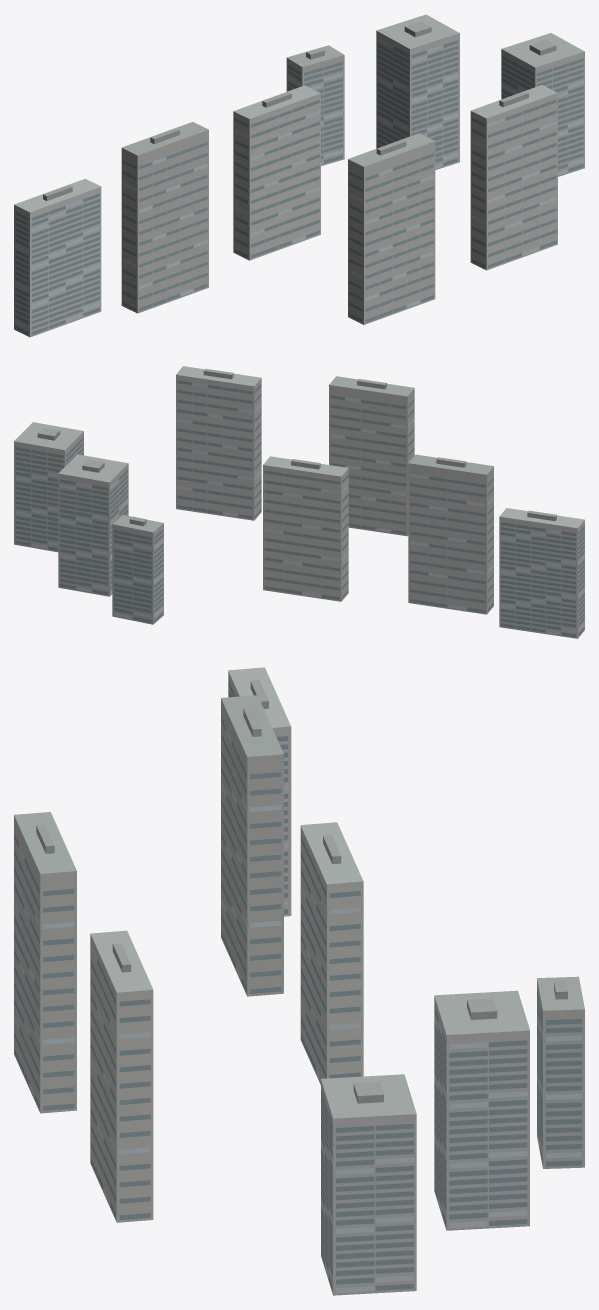
Rendered from apt-a15105603.glb.
3 views of the same model, one above another, from view 1: azimuth 30°, elevation 25°; view 2: azimuth 150°, elevation 25°; view 3: azimuth 270°, elevation 25° (orthographic). The views are drawn at different scales.
Visible parts, largest first — view 1: apt-a15105603; view 2: apt-a15105603; view 3: apt-a15105603.
Boxes of the visible parts, box(x1,y1,x2,y2) form: apt-a15105603: box(14, 14, 584, 337); apt-a15105603: box(14, 366, 584, 638); apt-a15105603: box(14, 667, 584, 1295).
Bounding box in the file's own units: 301 × 79 × 165.
